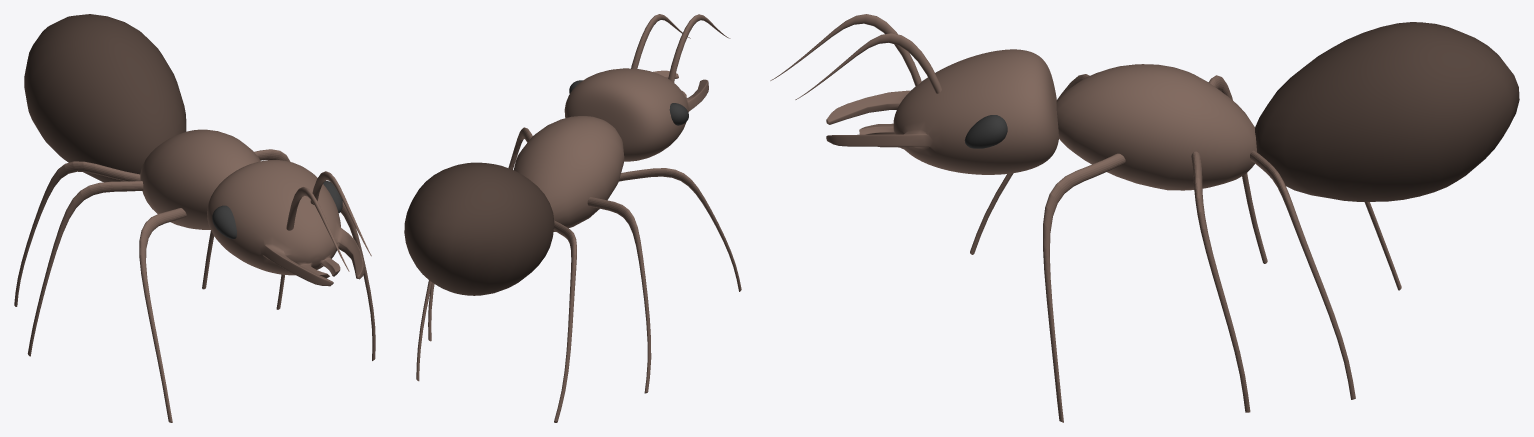
Rendered from Hormiga.fbx.
The picture shows the model from 3 angles, left to right: view 1: azimuth 30°, elevation 25°; view 2: azimuth 150°, elevation 25°; view 3: azimuth 270°, elevation 25°; orthographic projection. The views are drawn at different scales.
Visible parts, largest first — view 1: pasted__pasted__H_cola1, pasted__pasted__H_cadeza1, pasted__pasted__H_torzo3, pasted__pasted__H_pata7, pasted__pasted__H_pata11, pasted__pasted__H_pata8, pasted__pasted__H_pata6, pasted__pasted__H_antena3, pasted__pasted__H_ojo5, pasted__pasted__H_antena2, pasted__pasted__H_pata10; view 2: pasted__pasted__H_cola1, pasted__pasted__H_torzo3, pasted__pasted__H_cadeza1, pasted__pasted__H_pata11, pasted__pasted__H_pata7, pasted__pasted__H_pata8, pasted__pasted__H_antena3, pasted__pasted__H_antena2, pasted__pasted__H_pata9, pasted__pasted__H_ojo5, pasted__pasted__H_pata6; view 3: pasted__pasted__H_cola1, pasted__pasted__H_torzo3, pasted__pasted__H_cadeza1, pasted__pasted__H_pata6, pasted__pasted__H_pata9, pasted__pasted__H_pata10, pasted__pasted__H_antena2, pasted__pasted__H_antena3, pasted__pasted__H_ojo6, pasted__pasted__H_pata11.
Boxes of the visible parts, x1,y1,x2,y2 form: pasted__pasted__H_cola1: (24, 14, 186, 182); pasted__pasted__H_cadeza1: (207, 160, 364, 286); pasted__pasted__H_torzo3: (140, 129, 260, 229); pasted__pasted__H_pata7: (139, 208, 186, 422); pasted__pasted__H_pata11: (27, 181, 143, 356); pasted__pasted__H_pata8: (14, 161, 140, 306); pasted__pasted__H_pata6: (340, 201, 375, 360); pasted__pasted__H_antena3: (286, 187, 349, 271); pasted__pasted__H_ojo5: (212, 205, 236, 239); pasted__pasted__H_antena2: (310, 171, 371, 256); pasted__pasted__H_pata10: (254, 149, 290, 309); pasted__pasted__H_cola1: (404, 162, 554, 295); pasted__pasted__H_torzo3: (513, 116, 624, 231); pasted__pasted__H_cadeza1: (564, 68, 708, 161); pasted__pasted__H_pata11: (587, 197, 651, 393); pasted__pasted__H_pata7: (619, 168, 741, 291); pasted__pasted__H_pata8: (553, 220, 576, 422); pasted__pasted__H_antena3: (668, 14, 730, 82); pasted__pasted__H_antena2: (631, 14, 690, 68); pasted__pasted__H_pata9: (416, 280, 432, 381); pasted__pasted__H_ojo5: (669, 103, 688, 125); pasted__pasted__H_pata6: (508, 127, 532, 169); pasted__pasted__H_cola1: (1255, 22, 1519, 201); pasted__pasted__H_torzo3: (1056, 64, 1256, 190); pasted__pasted__H_cadeza1: (826, 49, 1058, 174); pasted__pasted__H_pata6: (1043, 153, 1125, 422); pasted__pasted__H_pata9: (1250, 150, 1355, 399); pasted__pasted__H_pata10: (1191, 151, 1250, 412); pasted__pasted__H_antena2: (795, 33, 941, 99); pasted__pasted__H_antena3: (770, 14, 921, 86); pasted__pasted__H_ojo6: (964, 115, 1007, 148); pasted__pasted__H_pata11: (1208, 75, 1267, 263).
Size of the model in its own units: 7.19 by 7.12 by 14.74.
